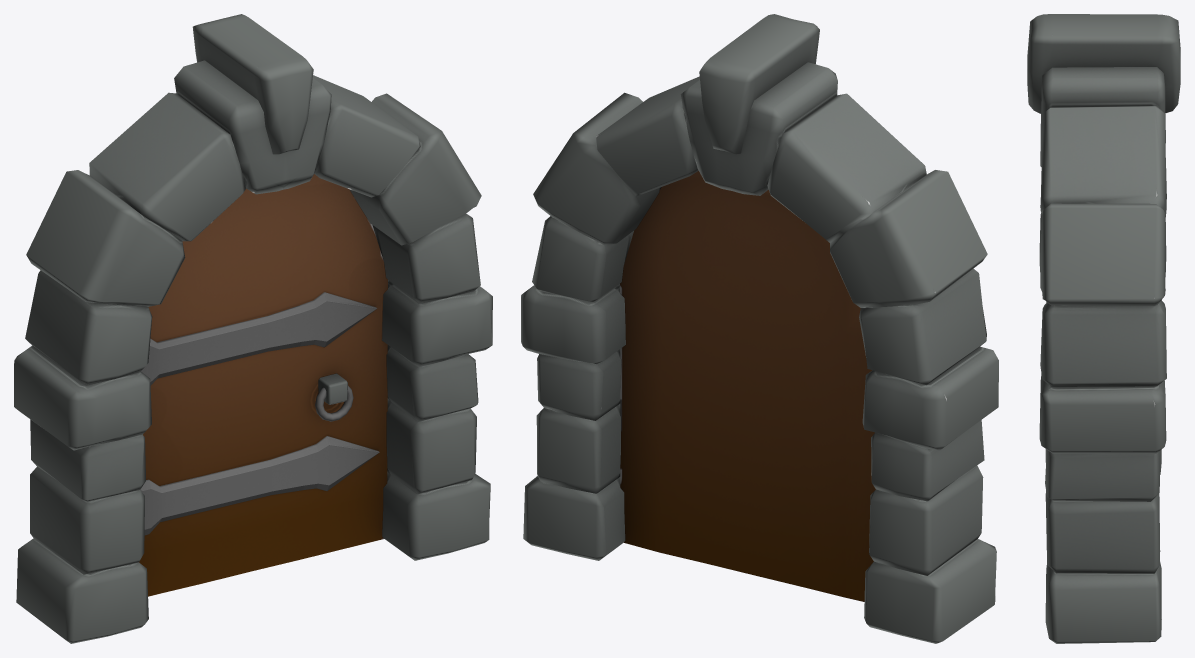
File: door.glb
3 views of the same model, side by side, from view 1: azimuth 30°, elevation 25°; view 2: azimuth 150°, elevation 25°; view 3: azimuth 270°, elevation 25° (orthographic). The views are drawn at different scales.
Visible parts, largest first — view 1: Whole_Door; view 2: Whole_Door; view 3: Whole_Door.
Part boxes in pixels (<box>): Whole_Door: <box>14,14,492,643</box>; Whole_Door: <box>521,14,998,643</box>; Whole_Door: <box>1027,14,1180,643</box>.
Bounding box in the file's own units: 0.0319 × 0.0382 × 0.0102.
1 material, 1 textured.
